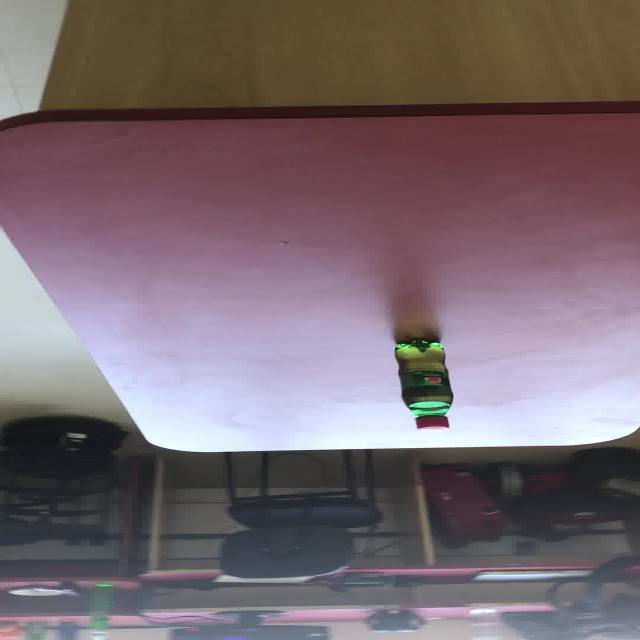guarana: (392, 337, 453, 429)
